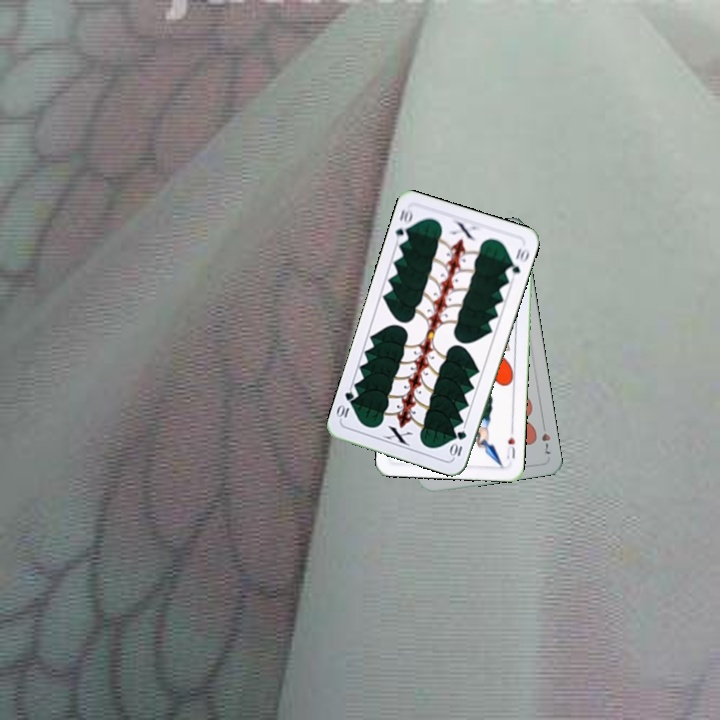G10: (391, 204, 415, 246), (447, 426, 469, 460)
H7: (537, 418, 553, 458)
HU: (503, 425, 518, 461)
